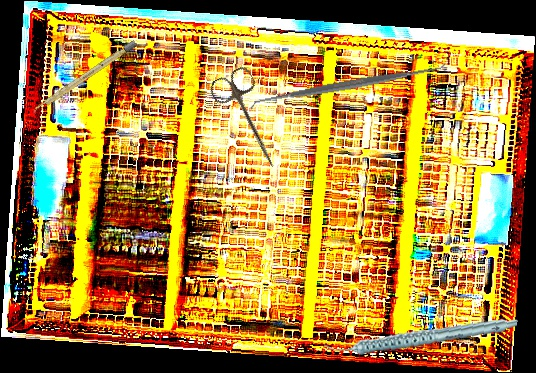Handpiece: (323, 301, 518, 369)
Iris Scissors: (206, 64, 295, 176)
Scalpel Handle: (30, 39, 138, 116)
Spatula Surgical: (247, 56, 448, 115)
